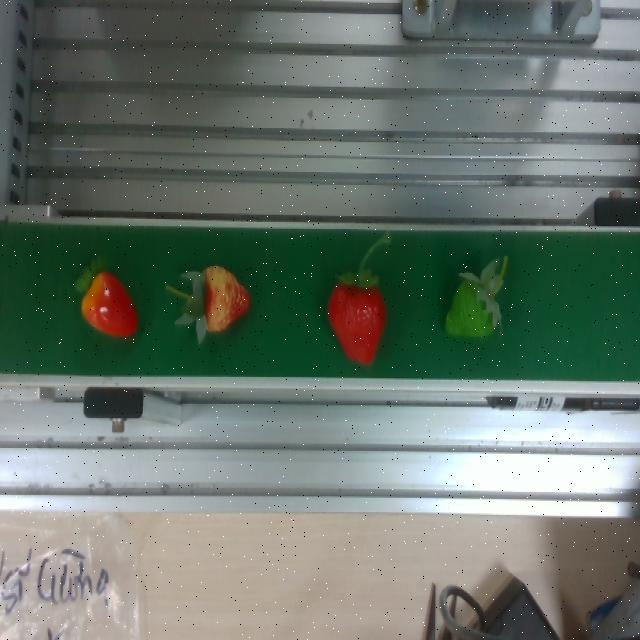Large Ripe Strawberry: (324, 229, 394, 365)
Moldy Strawberry: (176, 262, 261, 340)
Small Unripe Strawberry: (439, 250, 511, 346), (70, 252, 140, 342)
conveyor: (0, 216, 640, 390)
